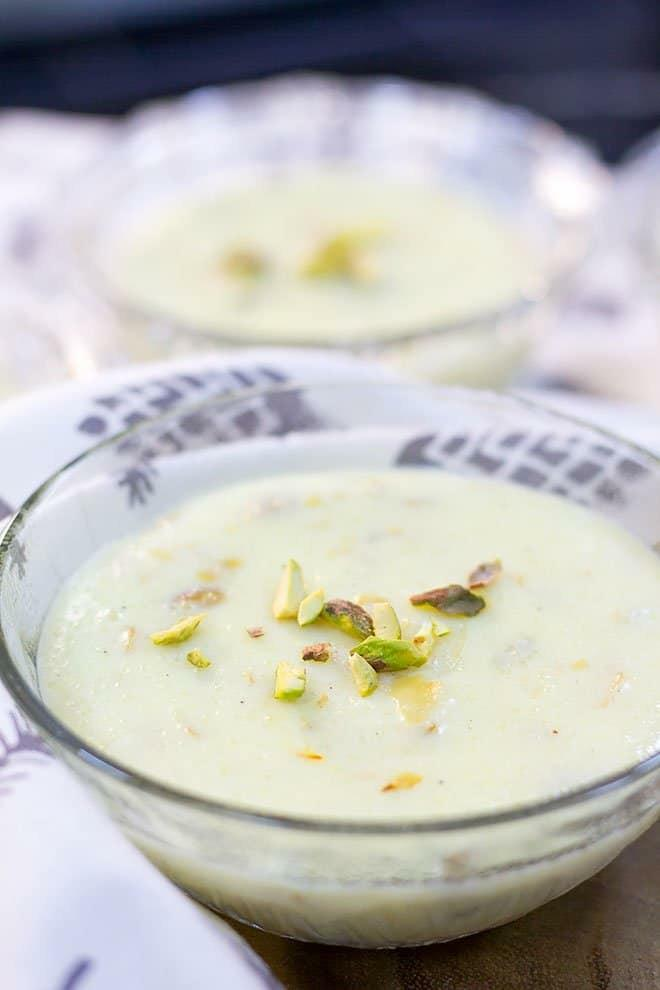Kheer: (39, 462, 660, 813), (110, 167, 536, 397)
